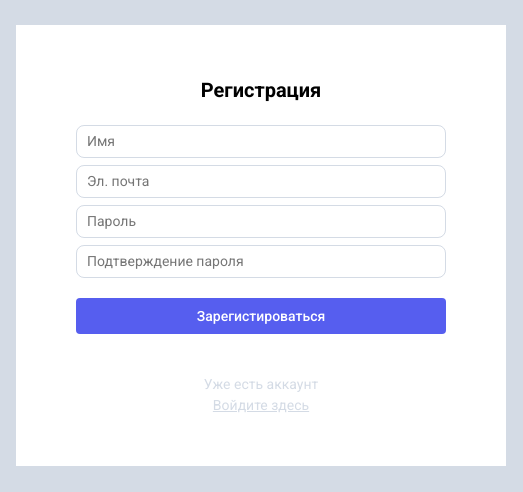
Test: Testing form › Testing email validation
Type "11" into the field with test id "email" at {"x": 261, "y": 181}, box 76,164 -> 446,198
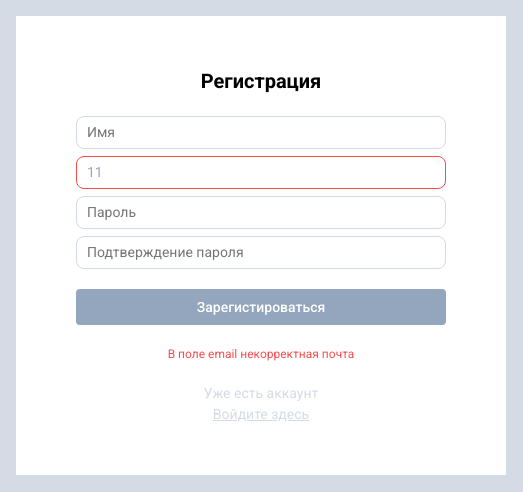
Result: the message with class "form__error" shows "некорректная почта" at 168,346 -> 354,360
